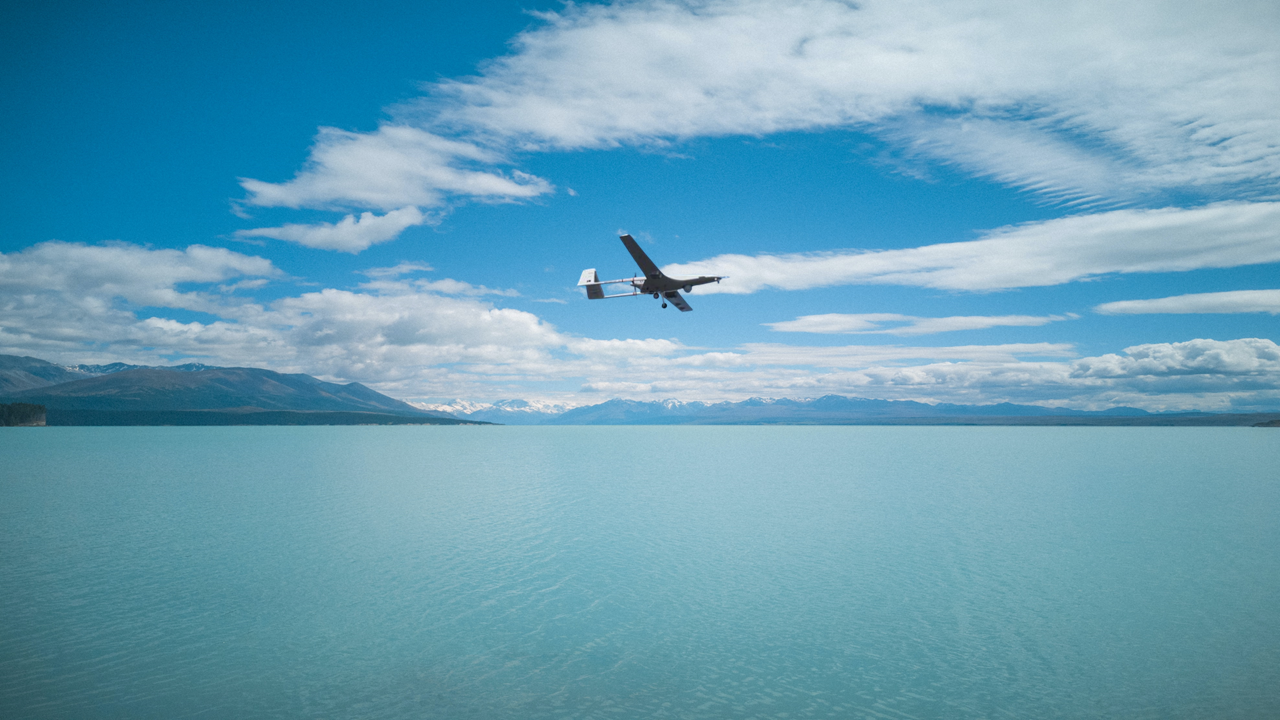military drone: (576, 233, 729, 312)
